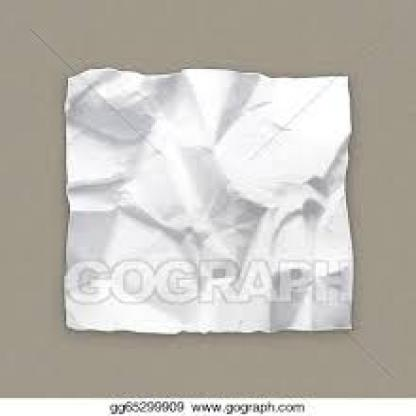paper: (63, 66, 354, 330)
